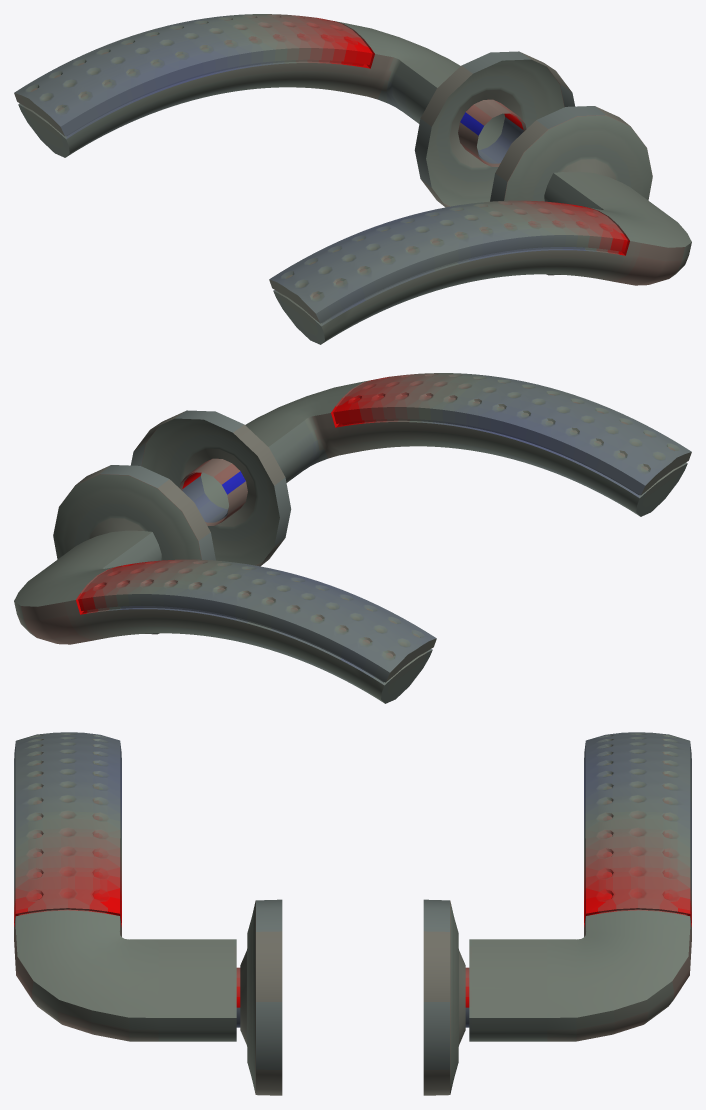
File: Handle02.fbx
3 renders of one model, top to bottom at view 1: azimuth 30°, elevation 25°; view 2: azimuth 150°, elevation 25°; view 3: azimuth 270°, elevation 25°, orthographic. The views are drawn at different scales.
Parts seen in each view (by area): view 1: Handle01; view 2: Handle01; view 3: Handle01.
Boxes of the visible parts, x1,y1,x2,y2 form: Handle01: [14, 14, 691, 344]; Handle01: [14, 373, 691, 703]; Handle01: [14, 732, 691, 1095].
Bounding box in the file's own units: 15.35 × 5.44 × 18.04.
